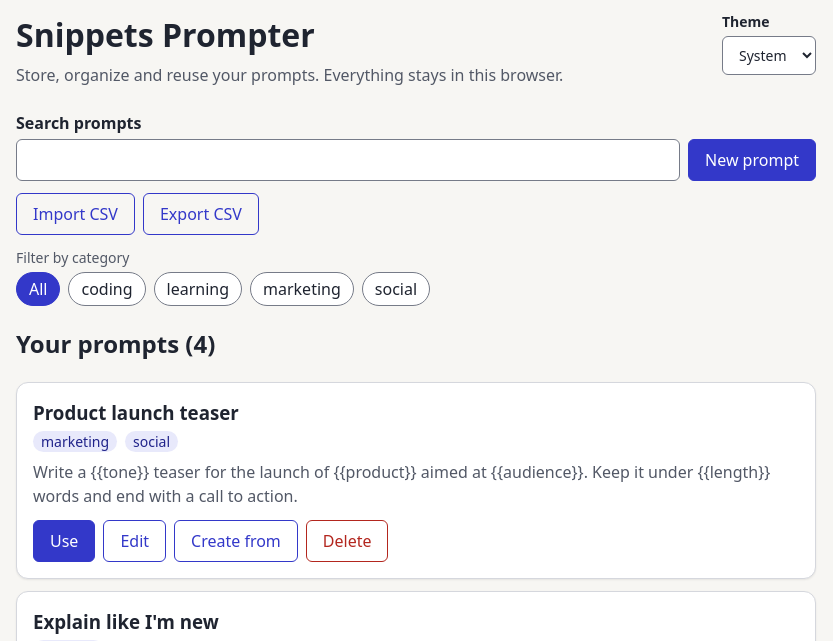
Test: focus management › moves focus into the variable panel and back to its button on close
Click the button with aria-label "Use Product launch teaser" at (64, 541), box [33,520,95,562]
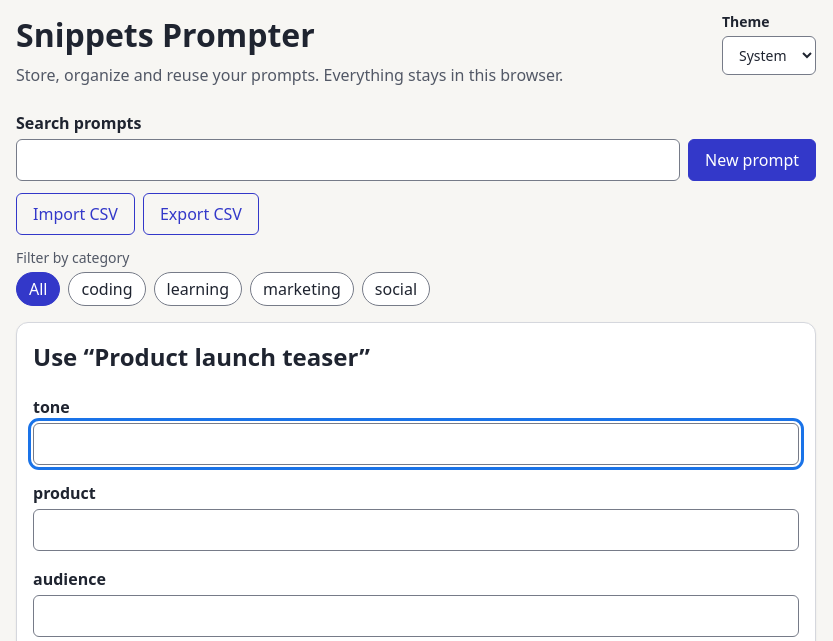
Press Escape
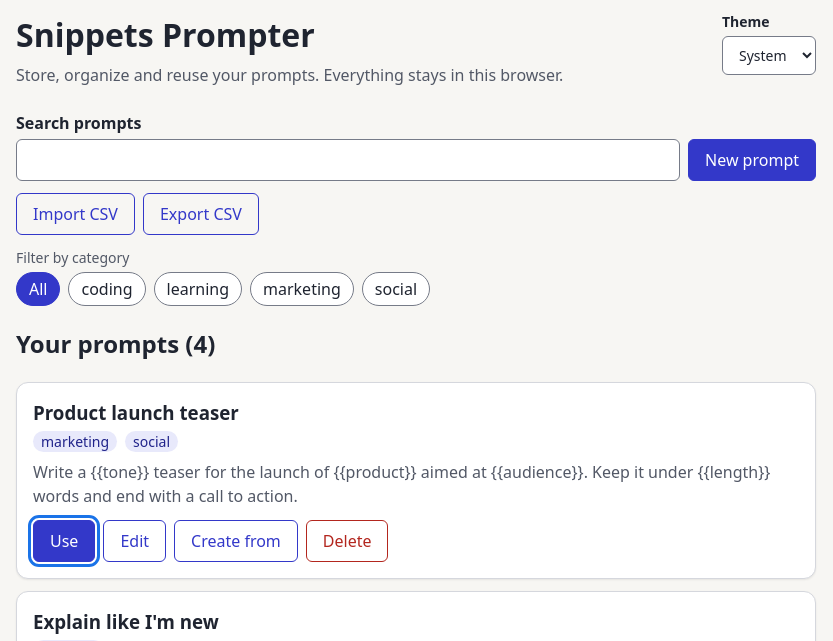
Result: the heading "Use “" is gone
